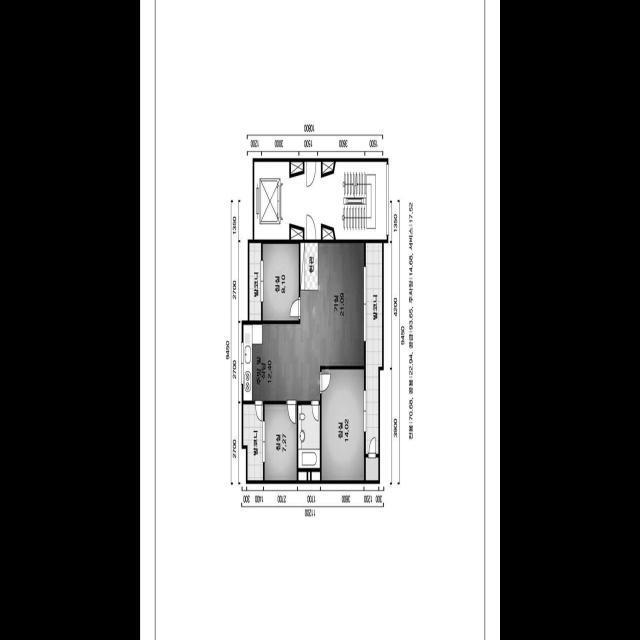background: (140, 0, 500, 640)
space_balconi: (366, 242, 382, 453), (243, 403, 263, 480), (249, 242, 261, 320)
space_bedroom: (321, 369, 364, 480), (263, 243, 299, 320), (264, 404, 297, 480)
space_elevator: (254, 161, 289, 239)
space_elevator_hall: (290, 161, 334, 239)
space_front: (300, 242, 318, 289)
space_kitchen: (243, 324, 274, 400)
space_living_room: (274, 242, 364, 400)
space_other: (366, 457, 378, 480), (322, 226, 335, 240), (291, 161, 303, 174), (291, 226, 303, 239), (322, 161, 334, 173), (311, 471, 320, 480), (298, 471, 307, 480), (308, 471, 310, 480)
space_staircase: (334, 161, 387, 239)
space_toilet: (298, 404, 320, 468)
